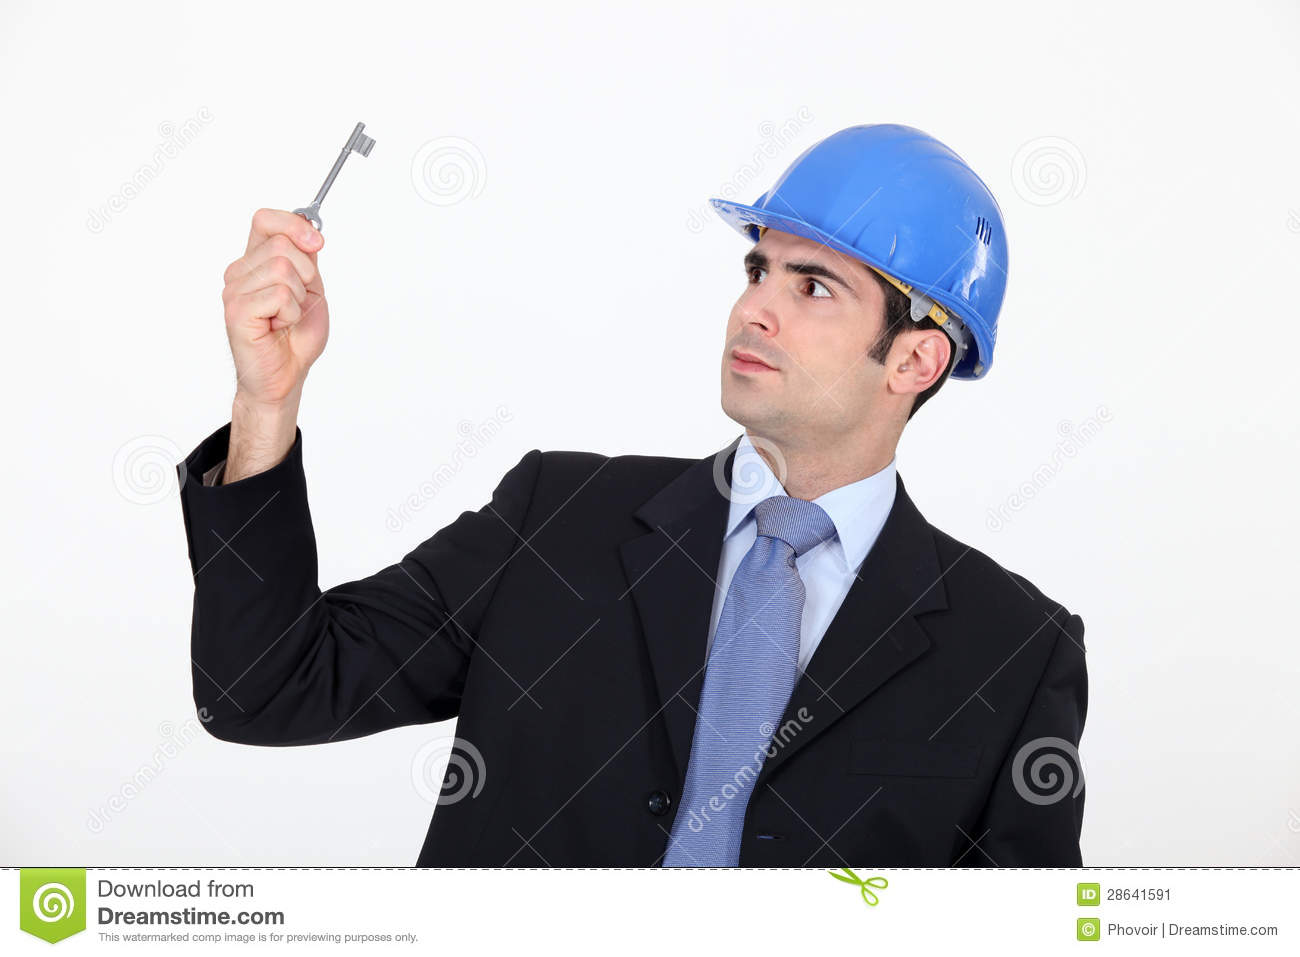Person_wearing_helmet: (709, 94, 1024, 335)
